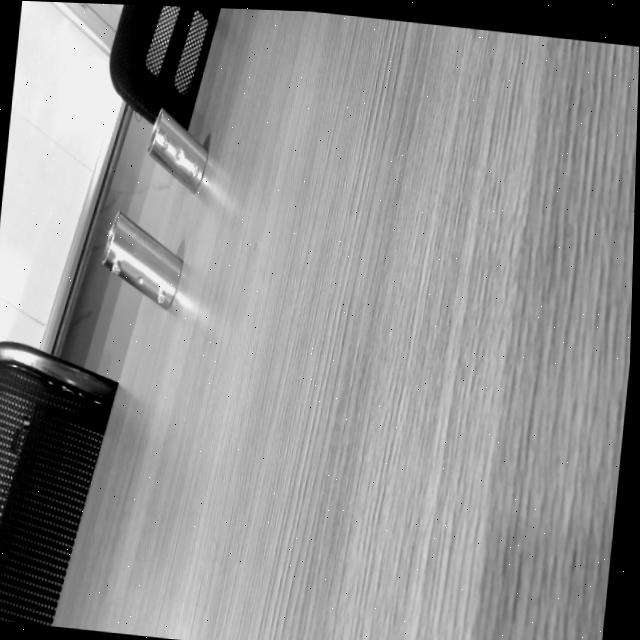Co_Lon: (88, 210, 197, 310)
Co_Nho: (133, 106, 222, 194)
